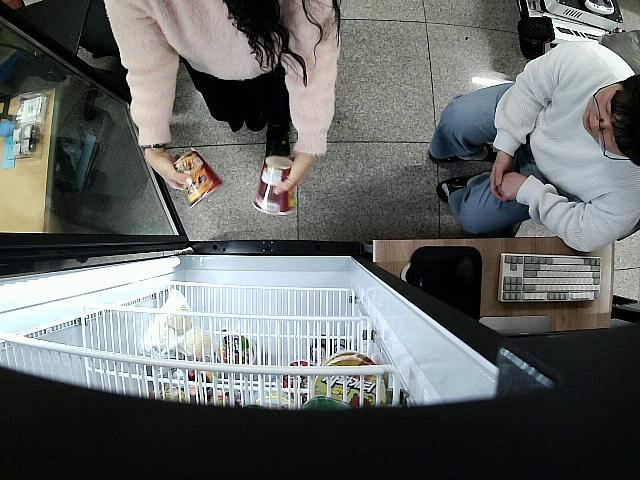00_hand: (144, 150, 193, 193), (273, 151, 315, 196)
06_nuguri_S: (175, 149, 223, 209), (252, 156, 297, 217)
